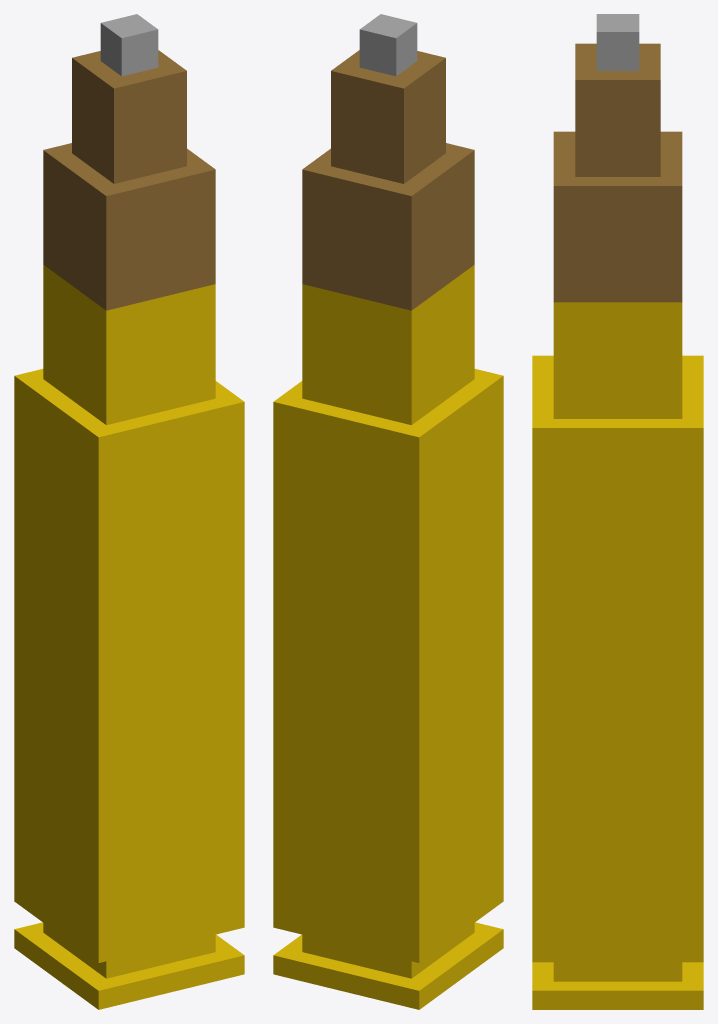
File: rifle_bullet.fbx
3 views of the same model, side by side, from view 1: azimuth 30°, elevation 25°; view 2: azimuth 150°, elevation 25°; view 3: azimuth 270°, elevation 25° (orthographic).
Parts seen in each view (by area): view 1: rifle_capsule, rifle_bullet; view 2: rifle_capsule, rifle_bullet; view 3: rifle_capsule, rifle_bullet.
Boxes of the visible parts, <box> form: rifle_capsule: <box>14,265,244,1009</box>; rifle_bullet: <box>43,14,215,310</box>; rifle_capsule: <box>273,265,503,1009</box>; rifle_bullet: <box>302,14,474,310</box>; rifle_capsule: <box>532,302,703,1009</box>; rifle_bullet: <box>553,14,682,302</box>.
Size of the model in its own units: 2.4 by 14.7 by 2.4.
